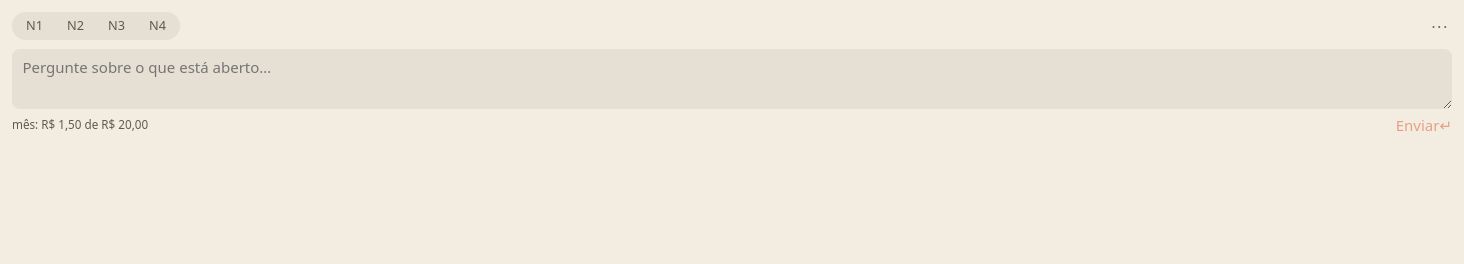
Scenario: pedido recusado pelo Gemini não manda trocar a chave e mostra o detalhe
Click the button named "N3 Esboço" at (116,26), box [96, 14, 137, 38]
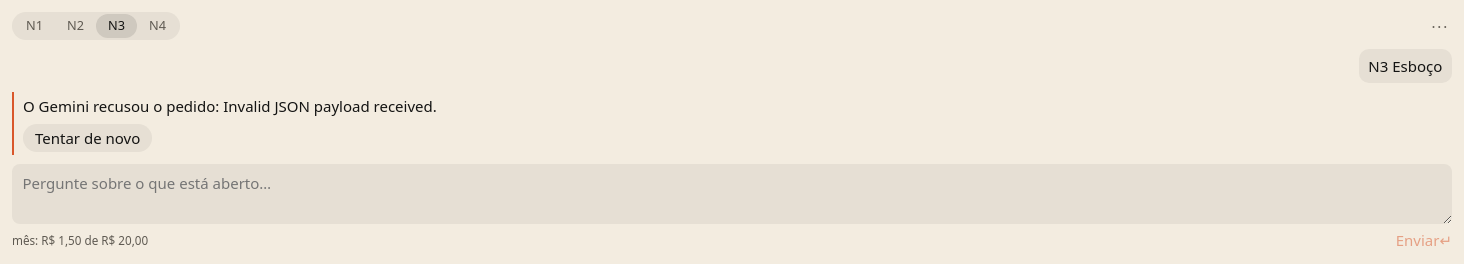
Expected: the text "O Gemini recusou o pedido: Invalid JSON payload received." is shown, [23, 96, 437, 116]
